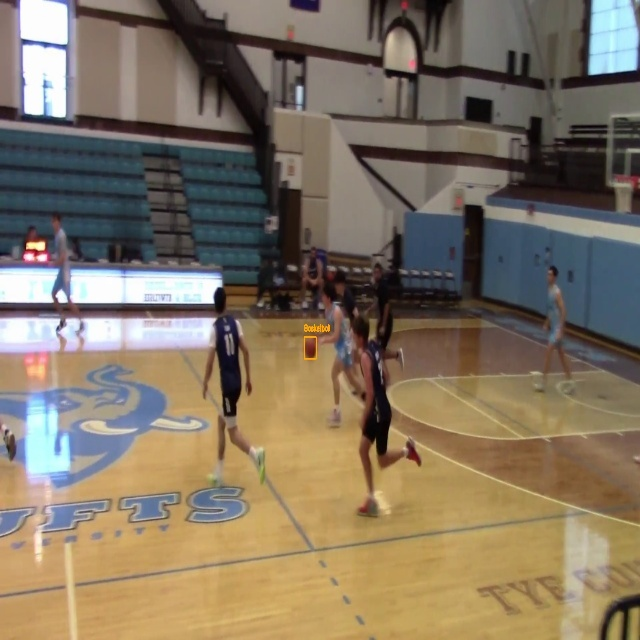Basketball: (304, 337, 316, 359)
